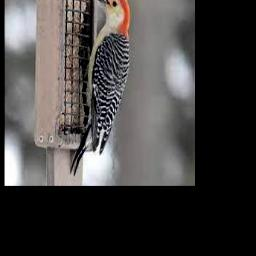Woodpecker: (70, 0, 129, 175)
